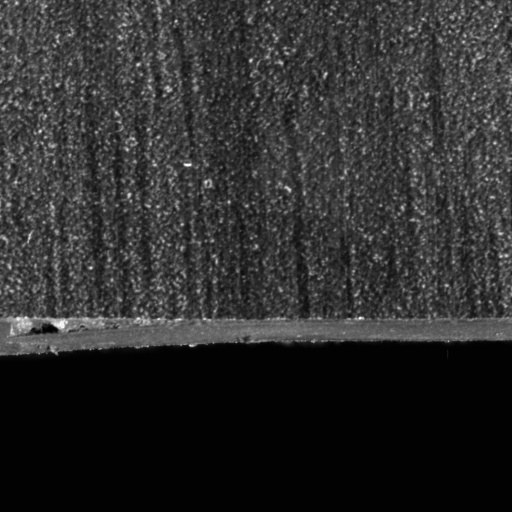kaijiao: (0, 311, 207, 359)
